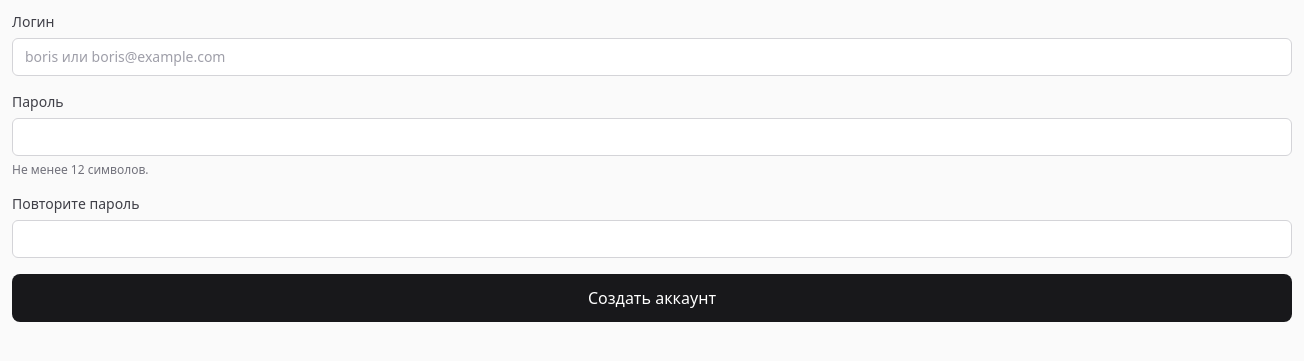
Scenario: operator setup › refuses mismatching passwords before contacting the server
In the field labelled "Логин": (652,57) [12,38,1292,76], type "boris"
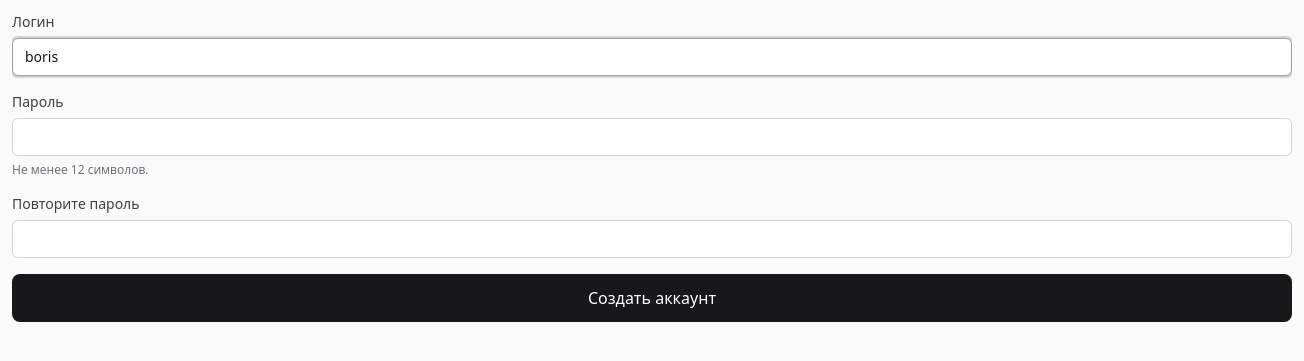
In the password field labelled "Пароль": (652,137) [12,118,1292,156], type "my chosen password"
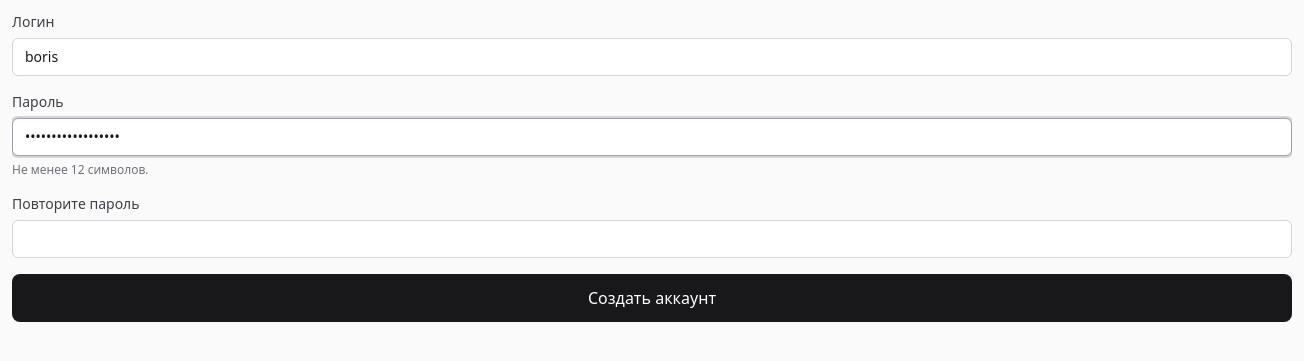
In the password field labelled "Повторите пароль": (652,239) [12,220,1292,258], type "a different password"
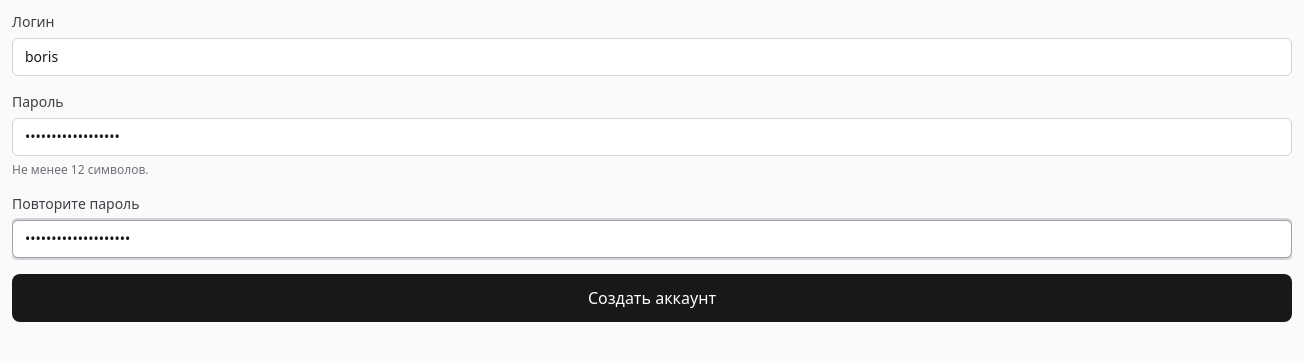
Click the button "Создать аккаунт": (652,298) [12,274,1292,322]
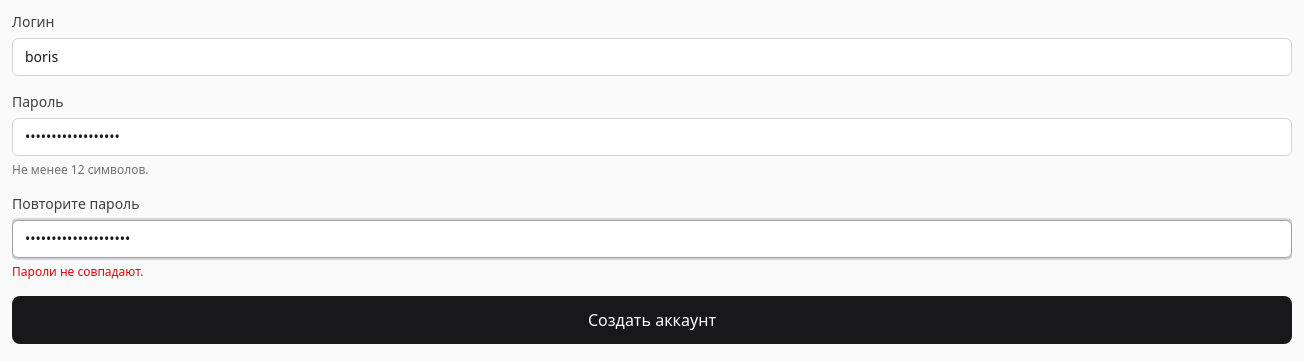
expect the text "Пароли не совпадают." is shown: met, box [12,263,144,280]
